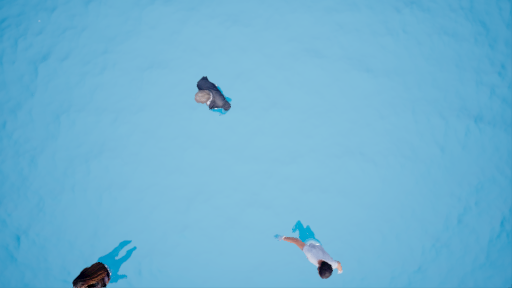person: (263, 210, 356, 279), (179, 68, 248, 128), (70, 236, 138, 288)
